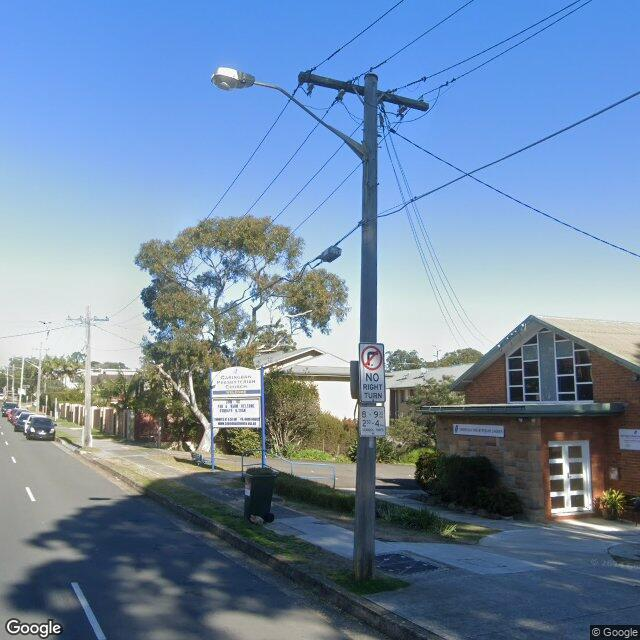crossarm: (298, 71, 430, 113), (64, 315, 110, 322)
streetlight: (210, 66, 366, 162), (18, 358, 39, 369)
timber-pole: (354, 73, 379, 582), (82, 306, 91, 449), (36, 341, 42, 414), (19, 354, 25, 406), (12, 362, 15, 402), (6, 368, 9, 400)
